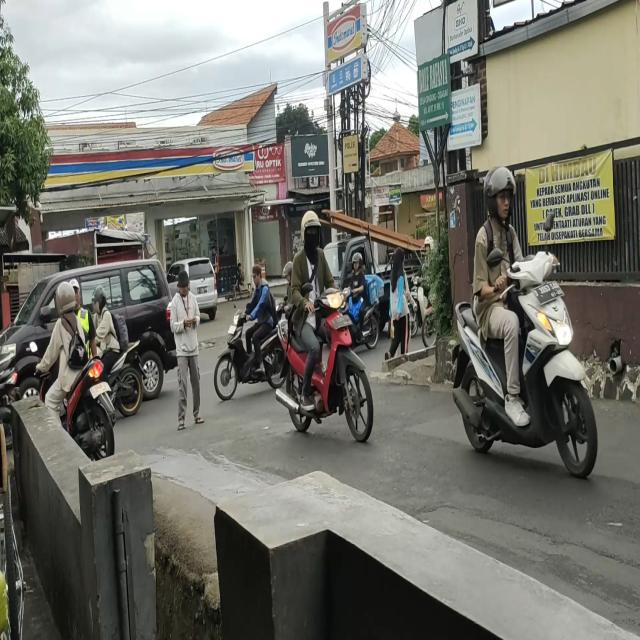helmet: (485, 170, 514, 216), (300, 211, 321, 250), (53, 283, 75, 316), (92, 285, 108, 313), (278, 261, 294, 283), (350, 251, 363, 277)
no-helmet: (249, 264, 266, 289)
